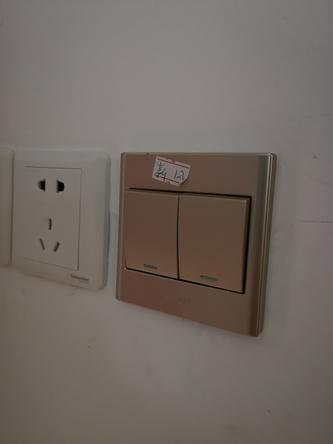switch: (171, 184, 251, 299), (118, 179, 184, 285)
